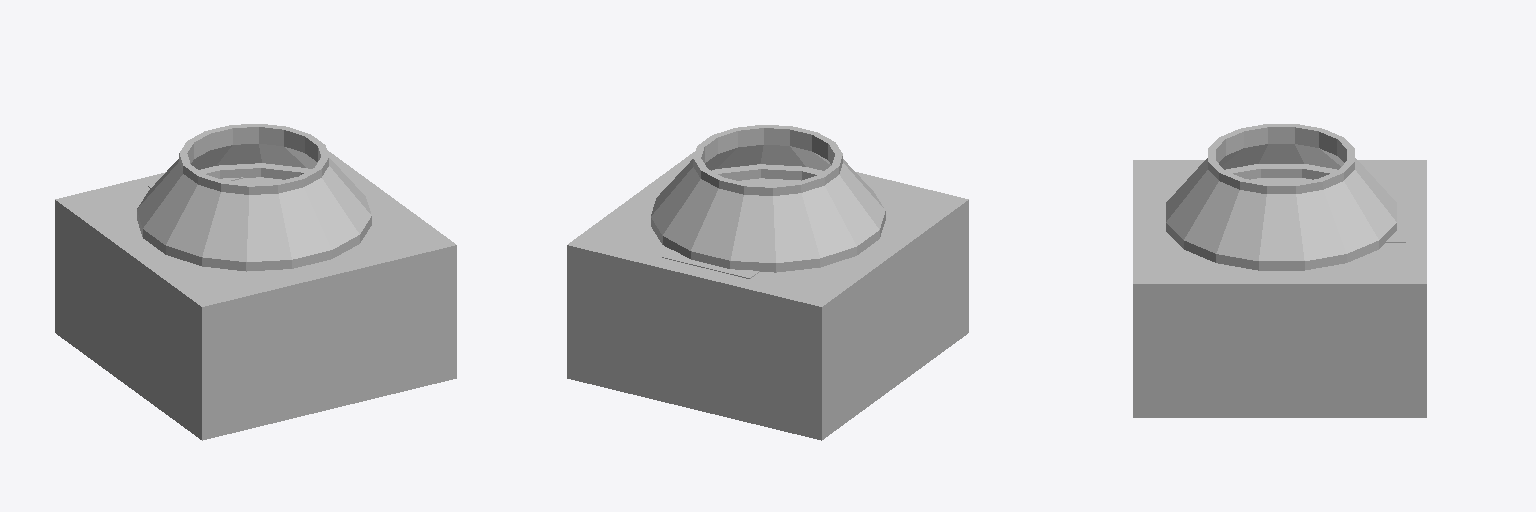
File: blast_furnace.obj
The picture shows the model from 3 angles: view 1: azimuth 30°, elevation 25°; view 2: azimuth 150°, elevation 25°; view 3: azimuth 270°, elevation 25°; orthographic projection.
Visible parts, largest first — view 1: base, tube, mesh; view 2: base, tube, mesh; view 3: base, tube, mesh.
Part boxes in pixels (bbox=[...]): base: bbox=[55, 150, 456, 440]; tube: bbox=[137, 124, 371, 261]; mesh: bbox=[137, 163, 371, 271]; base: bbox=[567, 152, 968, 440]; tube: bbox=[651, 125, 885, 262]; mesh: bbox=[651, 164, 885, 278]; base: bbox=[1133, 160, 1426, 417]; tube: bbox=[1166, 124, 1396, 260]; mesh: bbox=[1166, 164, 1405, 270].
Size of the model in its own units: 2 by 1.51 by 2.